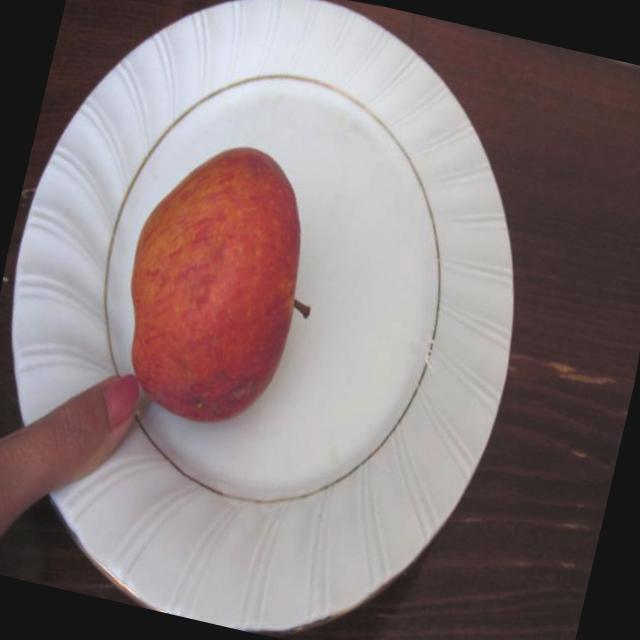Apple: (85, 106, 356, 455)
Finger: (31, 354, 158, 498)
